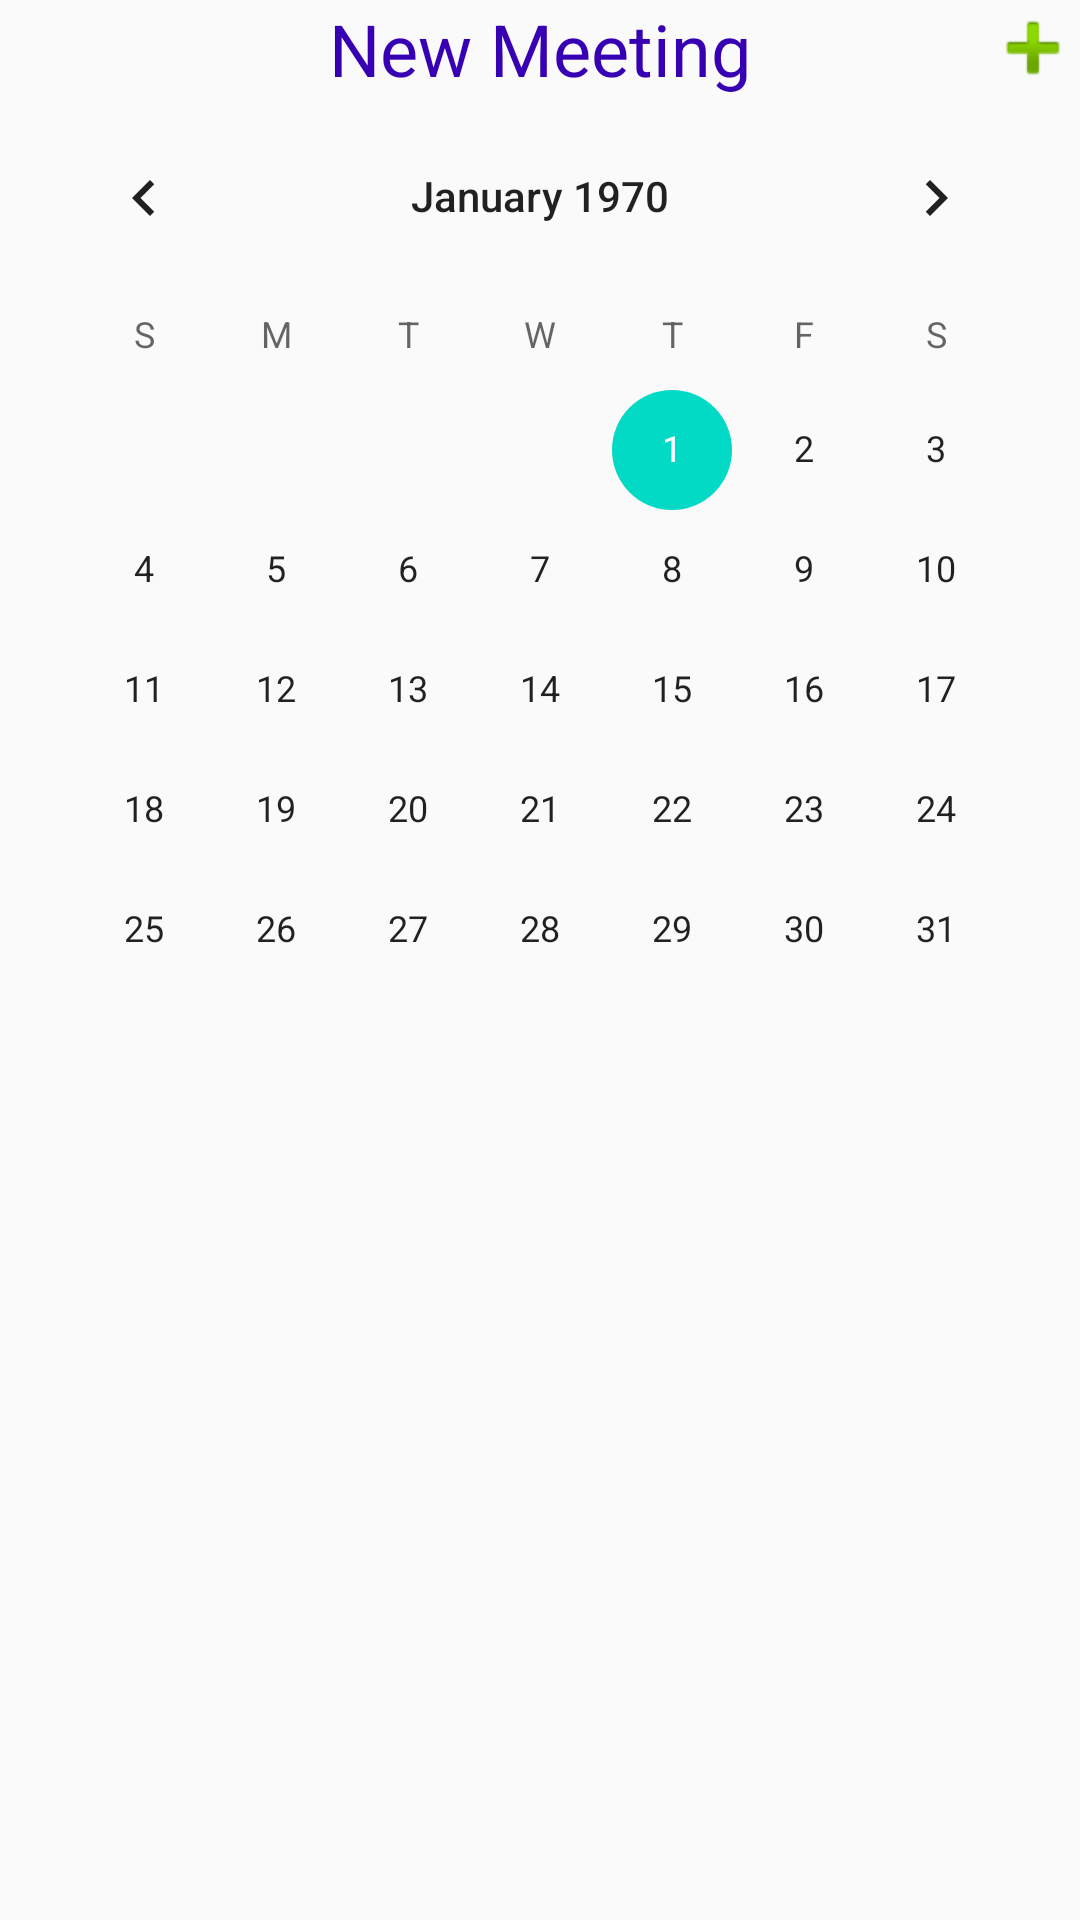

Screen size 1080 x 1920. Icon name, then its box in pixels as (x1, y1, x2, y2):
add: (1006, 21, 1060, 75)
